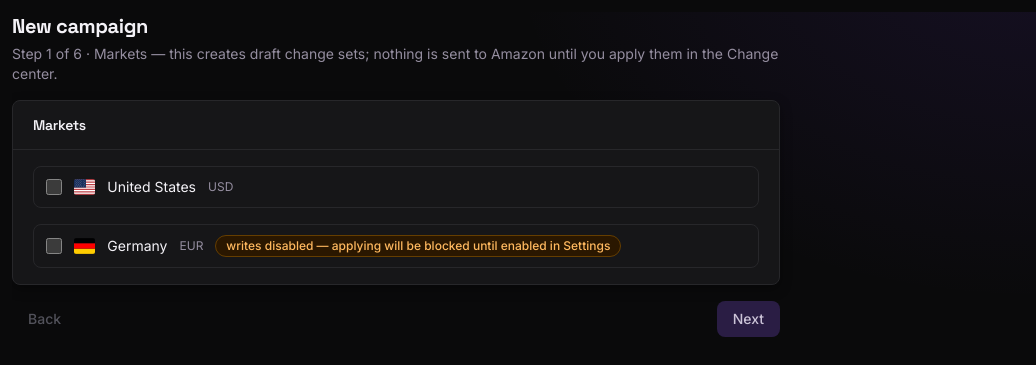
CampaignNewPage › requires at least one market and warns about write-disabled markets
Check: the text "writes disabled — applying will be blocked" is shown, box [226,238,610,253]
Check: the button "Next" is disabled, box [717,301,780,337]
Click the checkbox named "United States market": (54, 187) [46,179,62,195]
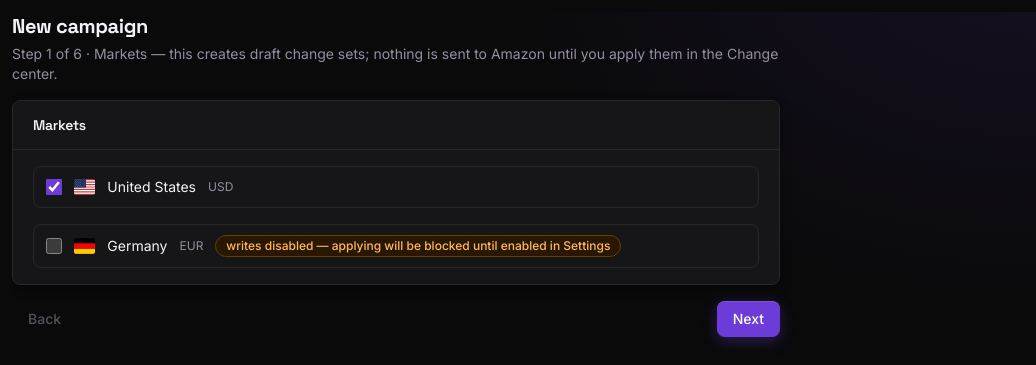
Check: the button "Next" is enabled, box [717,301,780,337]
Click the checkbox named "United States market": (54, 187) [46,179,62,195]
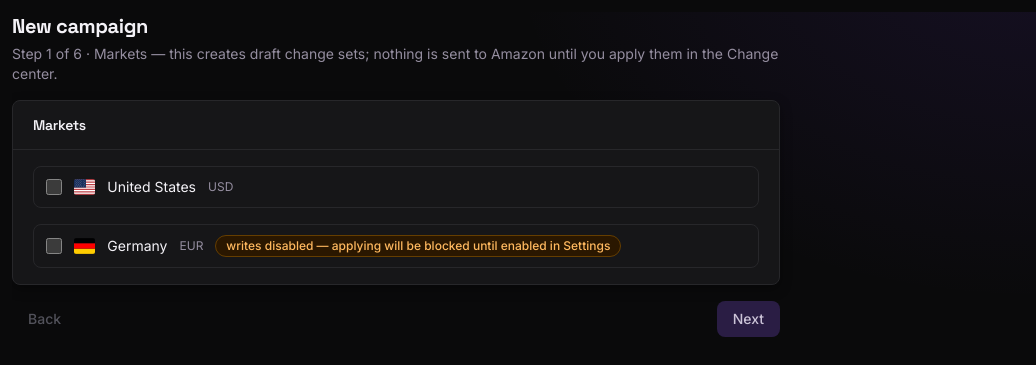
Check: the button "Next" is disabled, box [717,301,780,337]
